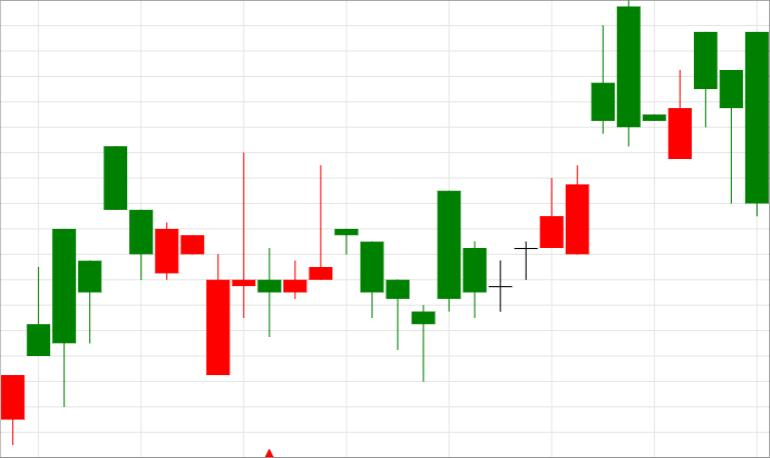shooting_star_fall: (488, 24, 614, 313)
